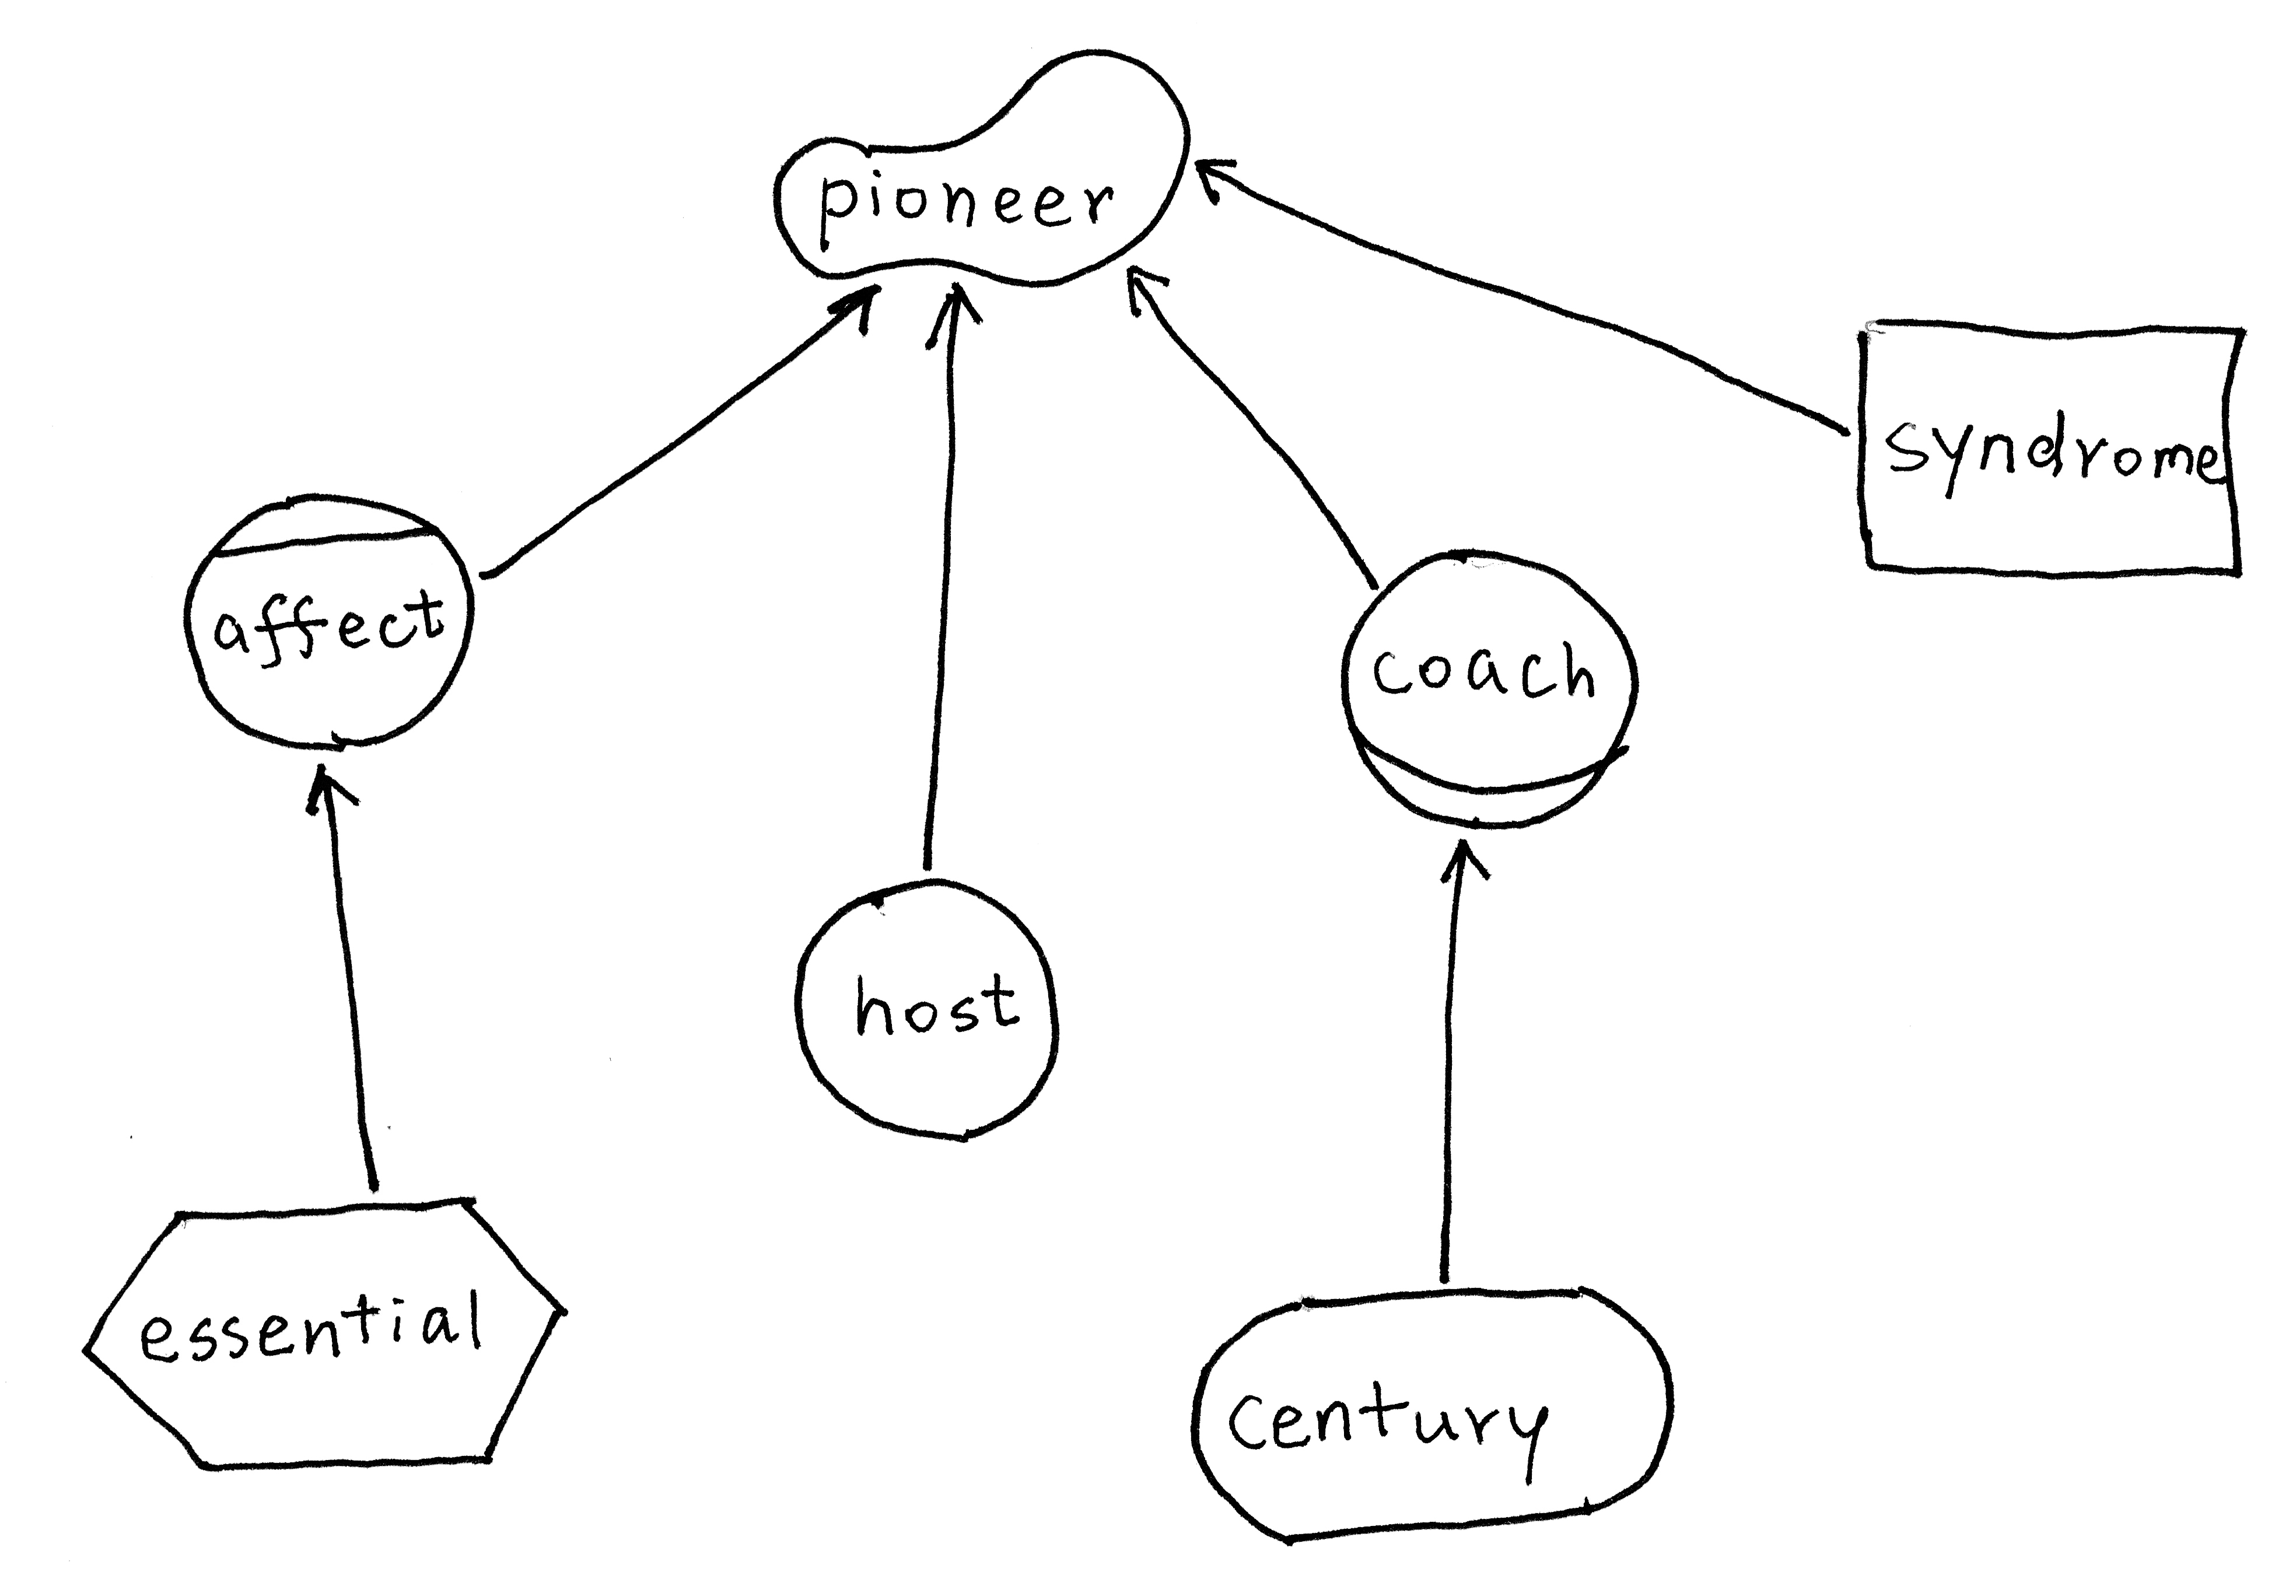actor: (783, 863, 1075, 1153)
agent: (164, 476, 494, 760)
arrow: (281, 750, 373, 832), (1179, 136, 1260, 218), (918, 272, 989, 359), (1420, 829, 1506, 895), (1110, 253, 1176, 328), (820, 270, 893, 337)
goal: (1167, 1268, 1698, 1554)
quality: (752, 31, 1206, 298)
resource: (1837, 293, 2275, 598)
role: (1319, 530, 1657, 855)
task: (59, 1176, 588, 1497)
